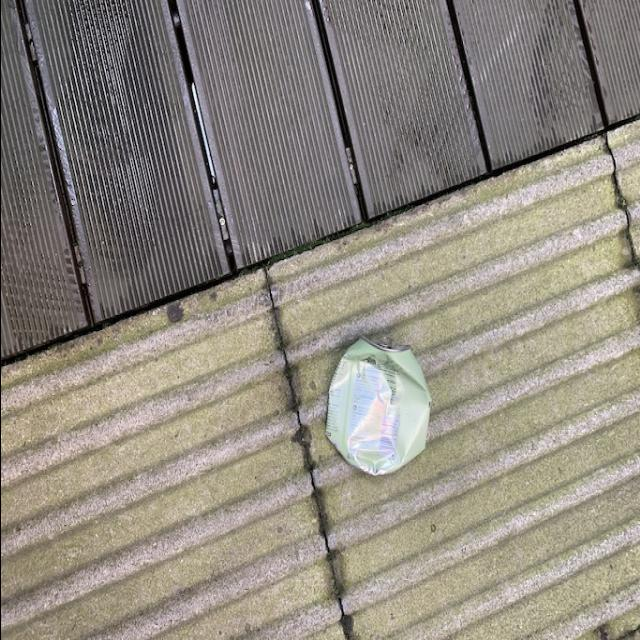Aluminum Can: (316, 336, 436, 486)
